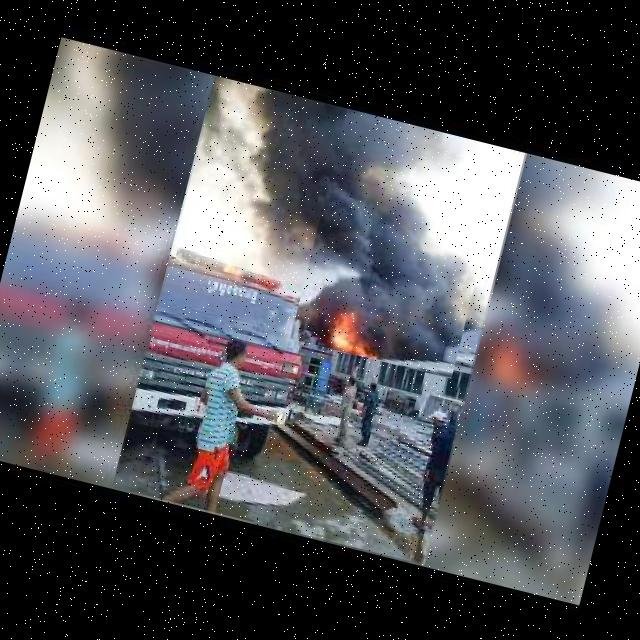fire: (290, 109, 508, 378)
